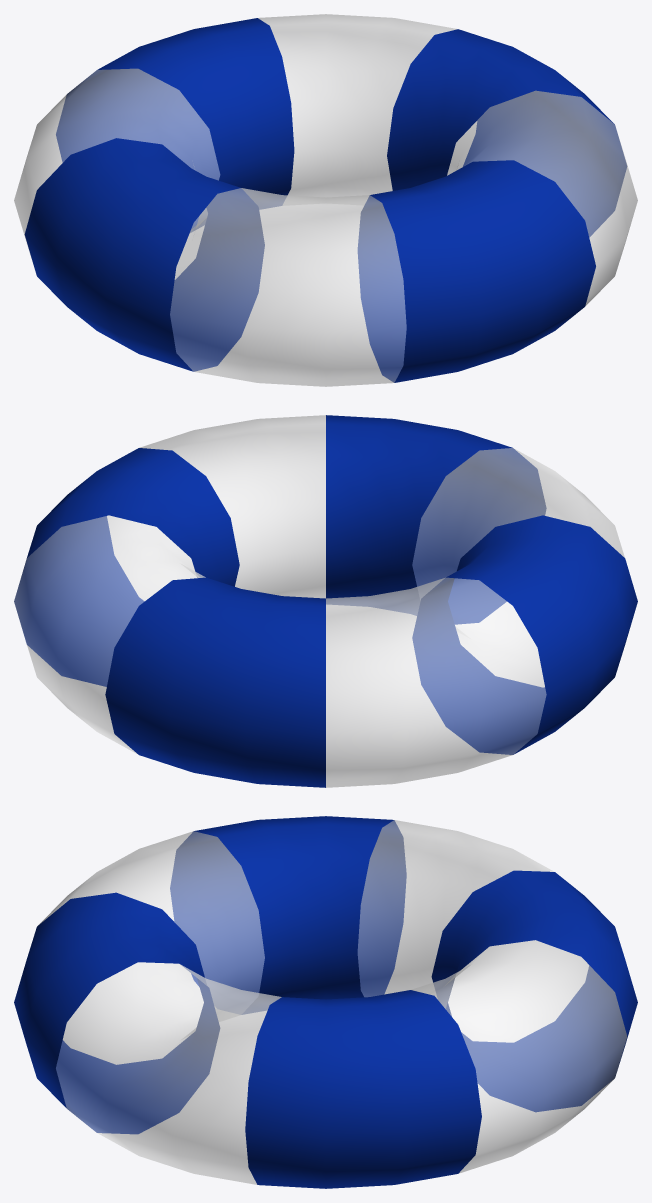
3 renders of one model, top to bottom at view 1: azimuth 30°, elevation 25°; view 2: azimuth 150°, elevation 25°; view 3: azimuth 270°, elevation 25°, orthographic.
Visible parts, largest first — view 1: Torus002; view 2: Torus002; view 3: Torus002.
Boxes of the visible parts, left/top/right/bottom form: Torus002: left=14, top=14, right=637, bottom=386; Torus002: left=14, top=415, right=637, bottom=787; Torus002: left=14, top=816, right=637, bottom=1188.
Bounding box in the file's own units: 107 × 32.52 × 107.
